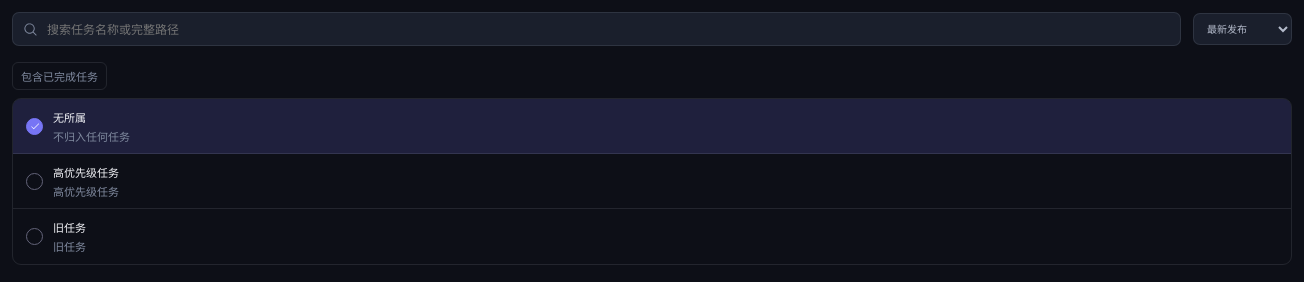
Test: 独立业务页面 › 任务选择器记住最后排序方式并对非法存储值安全回退
Select "优先级" in the dropdown named "任务排序方式". click: (1242, 29)
box: top-left (1193, 13), bottom-right (1292, 45)
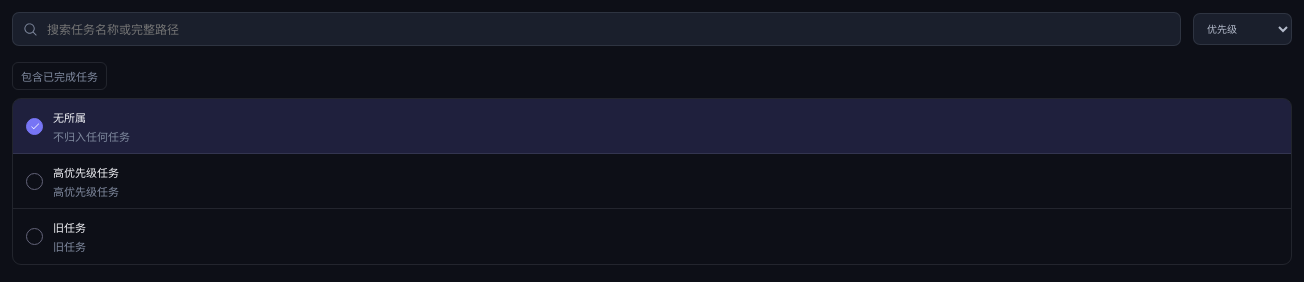
Expected: the dropdown named "任务排序方式" shows "优先级", top-left (1193, 13), bottom-right (1292, 45)
